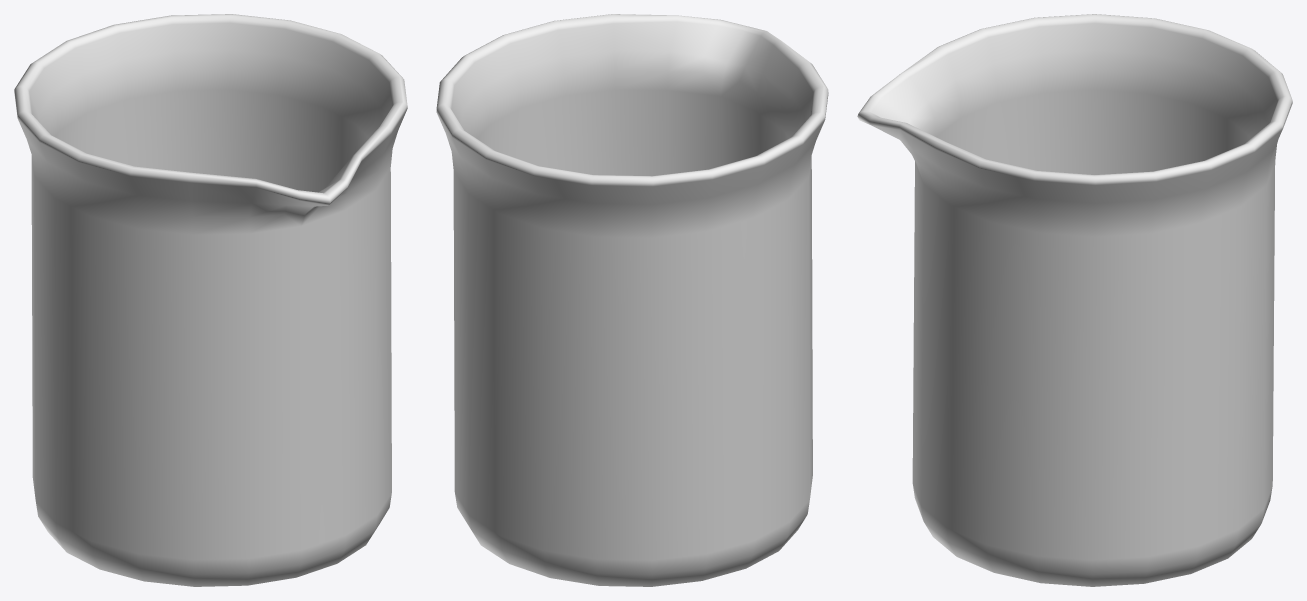
File: 100_Beaker.glb
3 renders of one model, left to right at view 1: azimuth 30°, elevation 25°; view 2: azimuth 150°, elevation 25°; view 3: azimuth 270°, elevation 25°, orthographic.
Visible parts, largest first — view 1: Bequer_100mL; view 2: Bequer_100mL; view 3: Bequer_100mL.
Boxes of the visible parts, box(x1,y1,x2,y2) form: Bequer_100mL: box(14, 14, 407, 586); Bequer_100mL: box(436, 14, 828, 586); Bequer_100mL: box(857, 14, 1292, 586).
Bounding box in the file's own units: 0.0682 × 0.0819 × 0.0753.
Materials: 1 (1 with a texture image).
